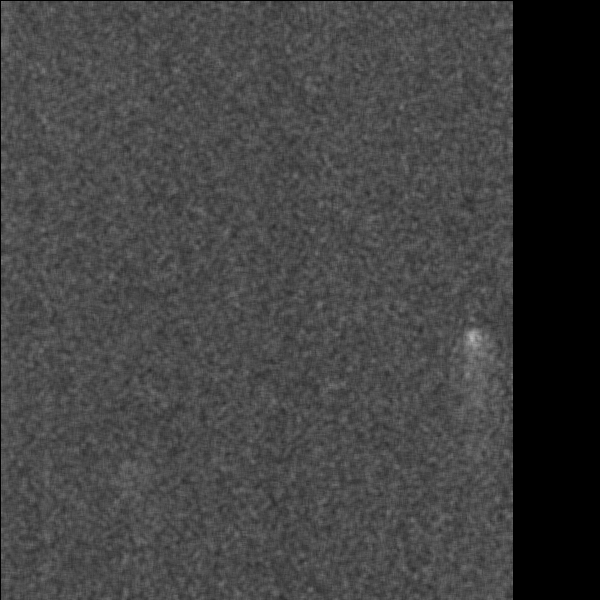spark: (460, 327, 488, 372)
